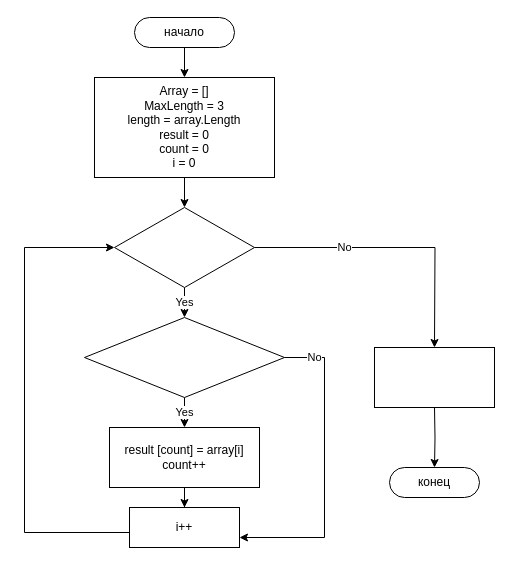
The diagram is 512 pixels wide and 565 high, and some of its shapes have lost their labels. The shapes that lost their labels are listed below. From the top down, each one's centre as x and y in pixels, then its label:
At (184,247): "i < length".
At (184,357): "array [i].Length <=MaxLength".
At (434,377): "return result".
